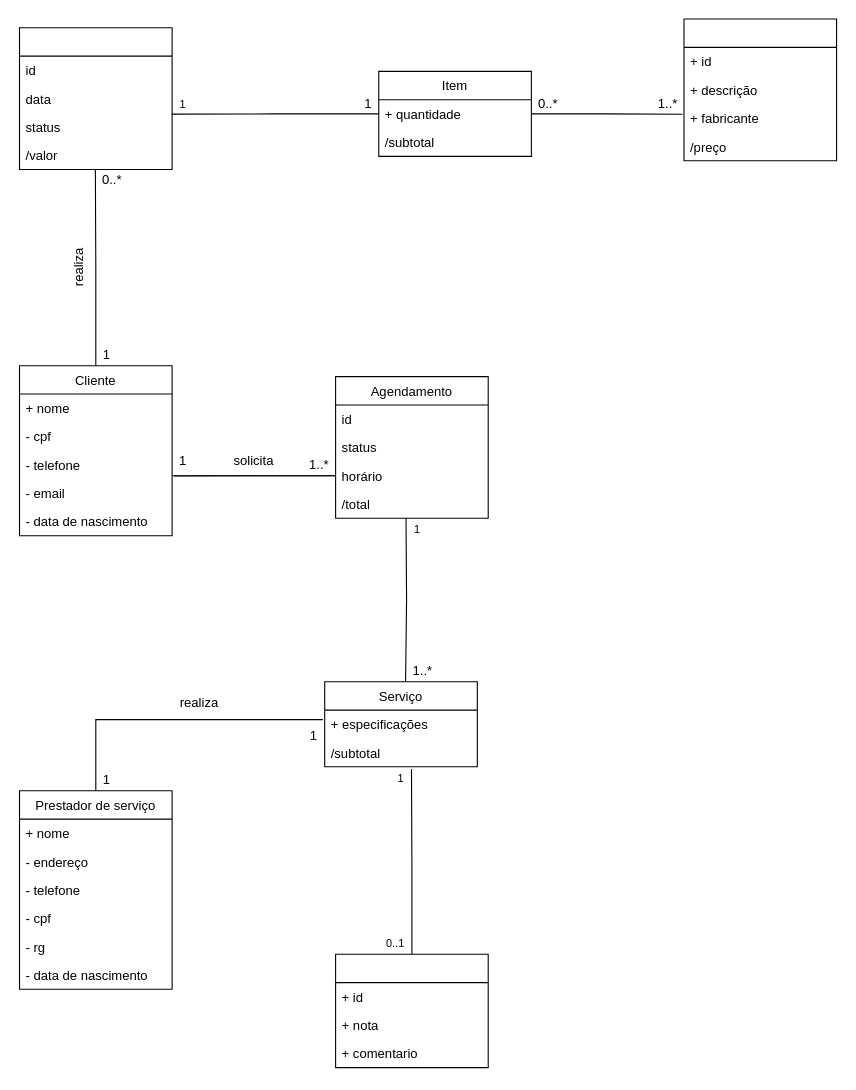
Some shapes in this 856 by 1090 pixel diagram are drawn without their labels. Here are the shapes that lost their labels. From the top down, the box of each, then its label:
(18, 27, 172, 169): Pedido
(683, 18, 837, 161): Produto
(335, 953, 488, 1068): Avaliações
